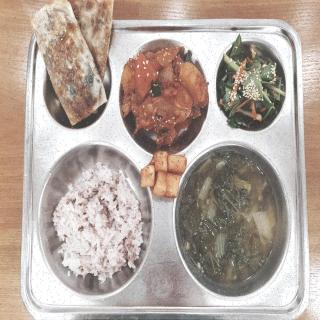Nasi: (52, 163, 144, 283)
